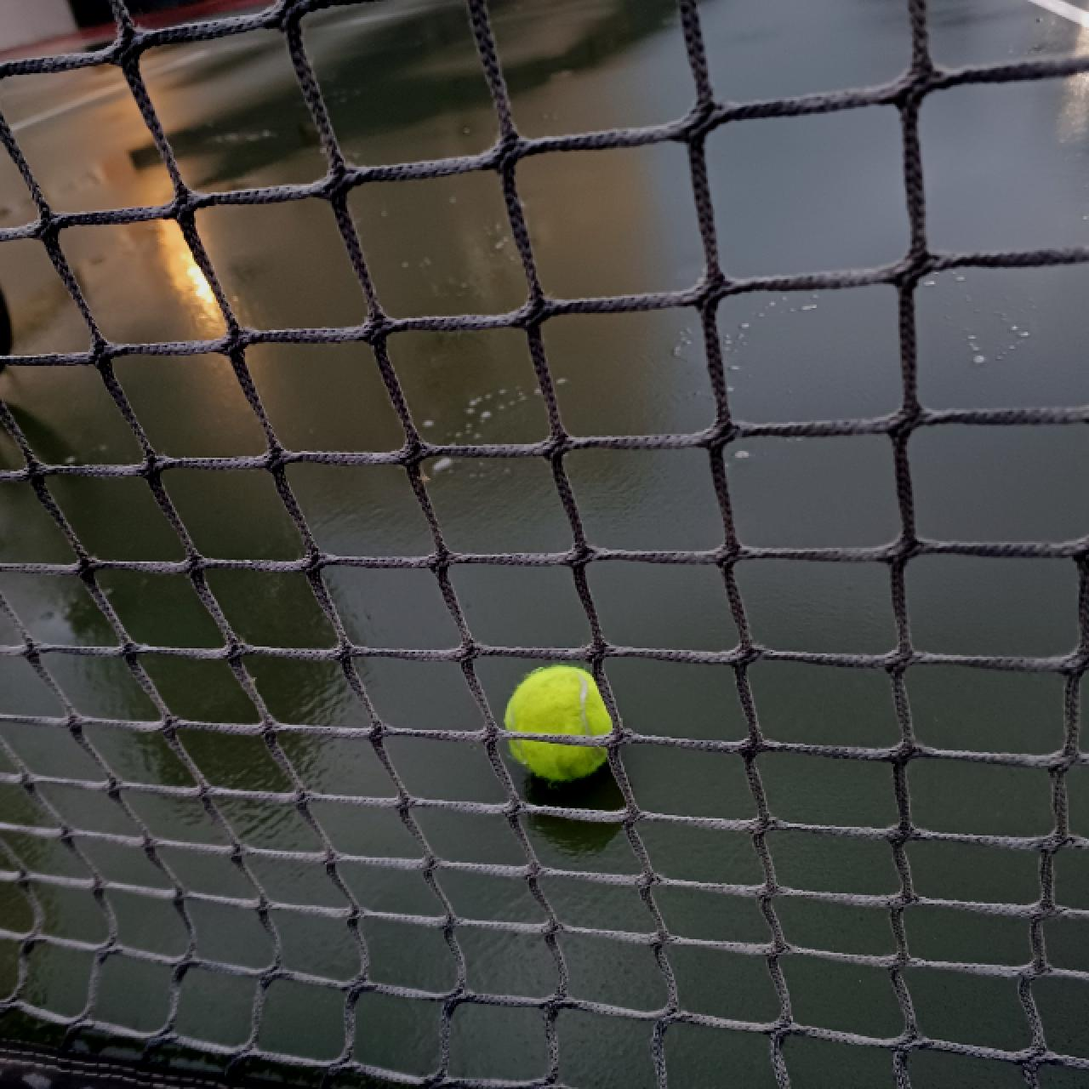tennis-ball: (501, 664, 623, 783)
